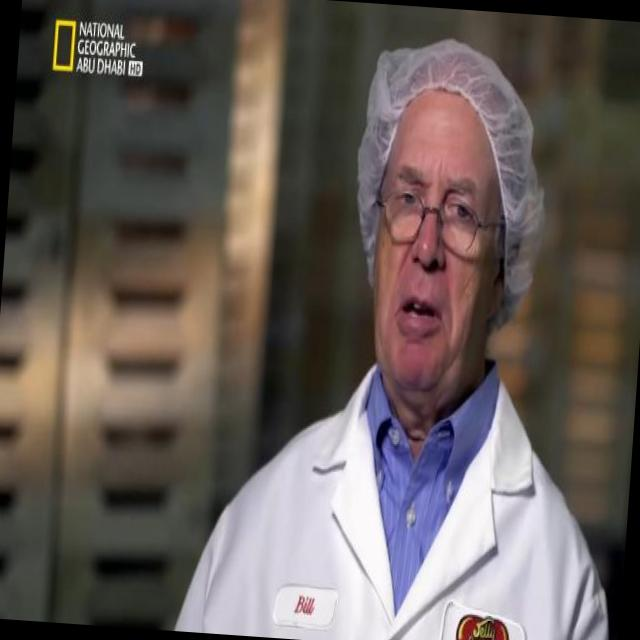hairnet: (356, 44, 557, 184)
